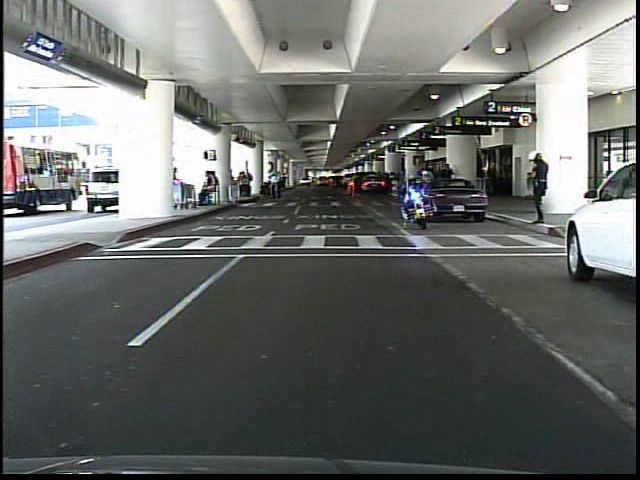person: (524, 148, 555, 228)
